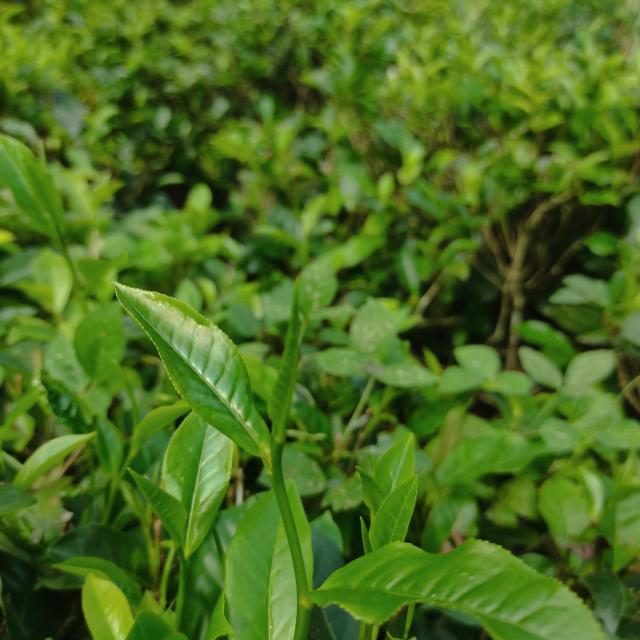unopened_leaf: (263, 271, 308, 451), (352, 512, 383, 558)
